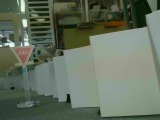stop: (6, 44, 37, 68)
